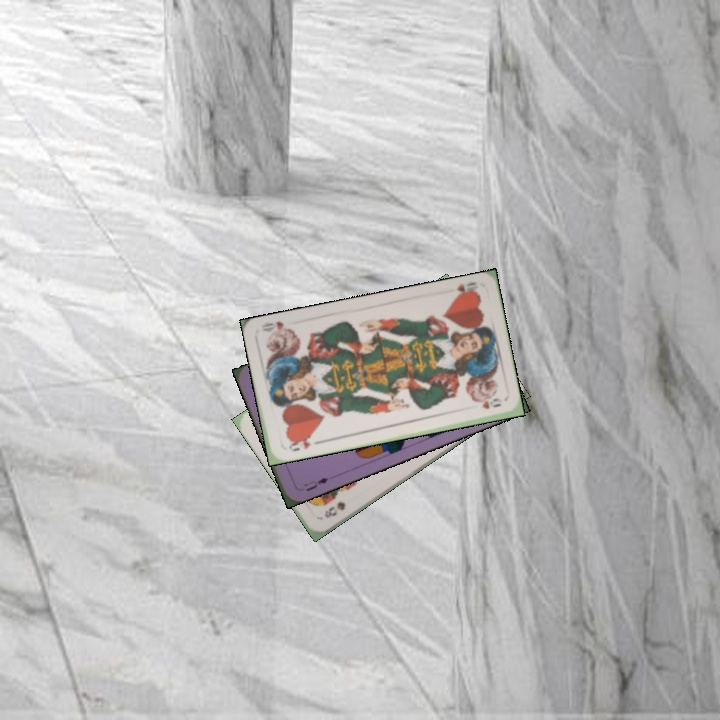EU: (299, 473, 331, 494)
HO: (448, 278, 480, 301), (285, 433, 313, 454)
S8: (320, 497, 348, 521)
